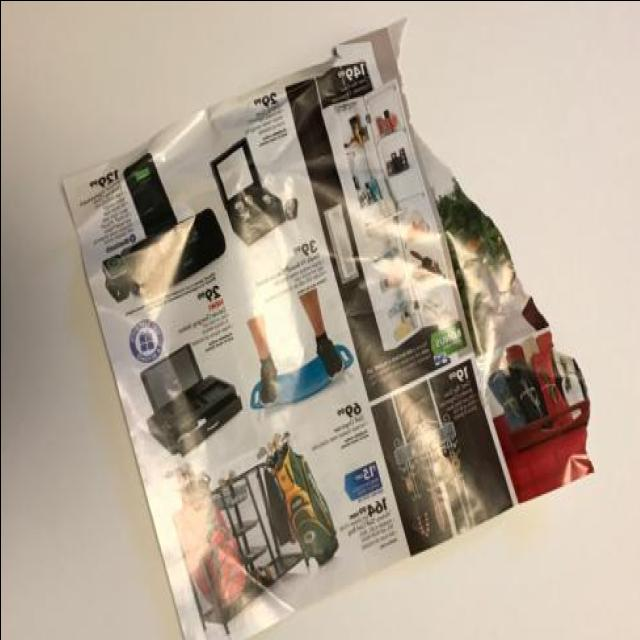kertas: (57, 13, 596, 640)
